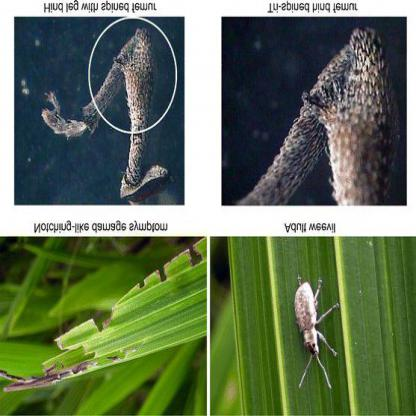ash weevil: (37, 4, 67, 68), (1, 9, 33, 65)
